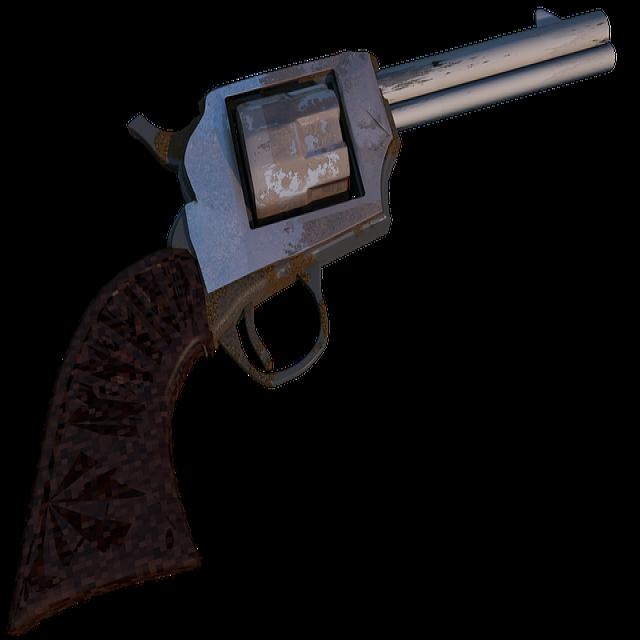HandGun: (5, 11, 620, 640)
